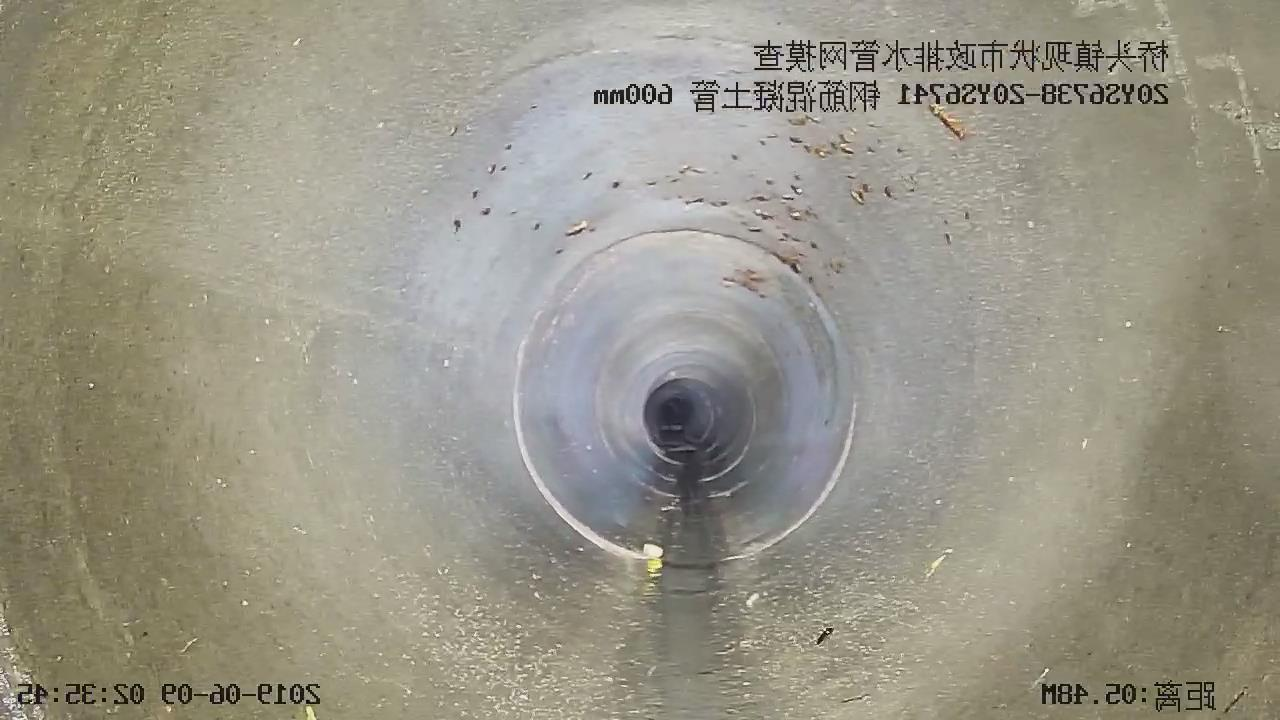CKTJ: (512, 335, 663, 561), (757, 409, 853, 550)
